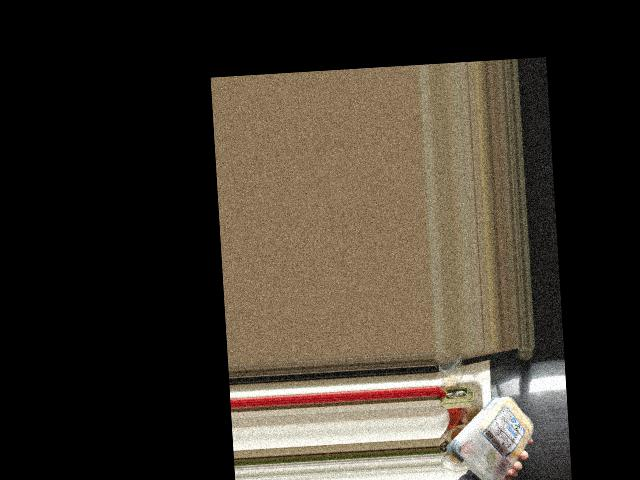cheese: (456, 393, 531, 480)
